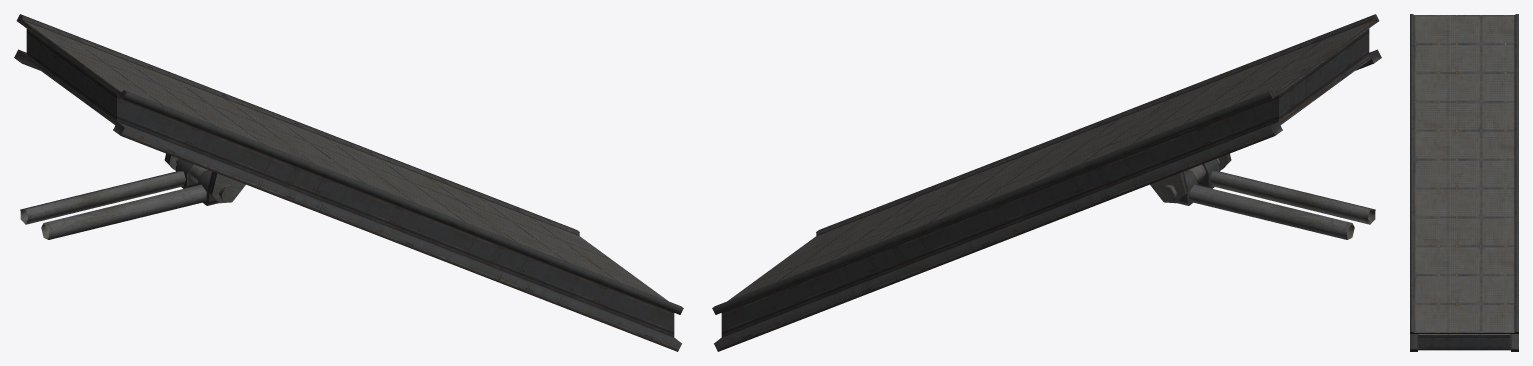
File: Wall1_Ramp1_L3.fbx
3 views of the same model, side by side, from view 1: azimuth 30°, elevation 25°; view 2: azimuth 150°, elevation 25°; view 3: azimuth 270°, elevation 25° (orthographic). The views are drawn at different scales.
Parts seen in each view (by area): view 1: polySurface914; view 2: polySurface914; view 3: polySurface914.
Boxes of the visible parts, <box> form: polySurface914: <box>14,14,683,351</box>; polySurface914: <box>712,14,1381,351</box>; polySurface914: <box>1410,14,1518,351</box>.
Bounding box in the file's own units: 1604 × 1015 × 499.
